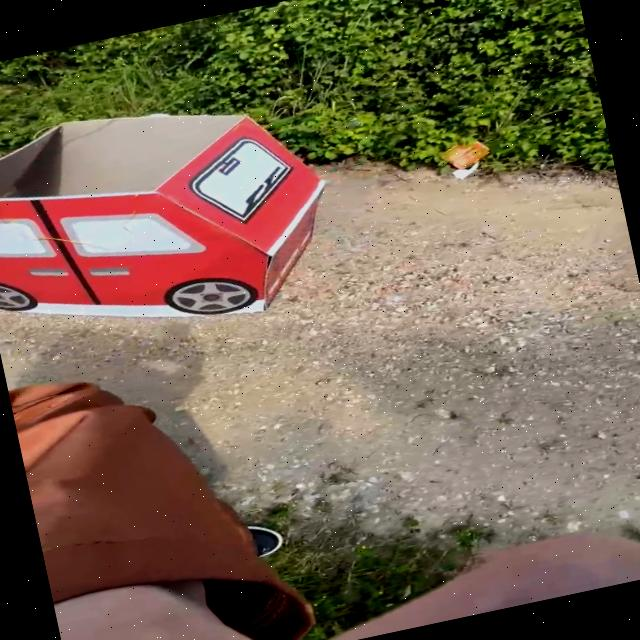red_car: (0, 53, 389, 387)
